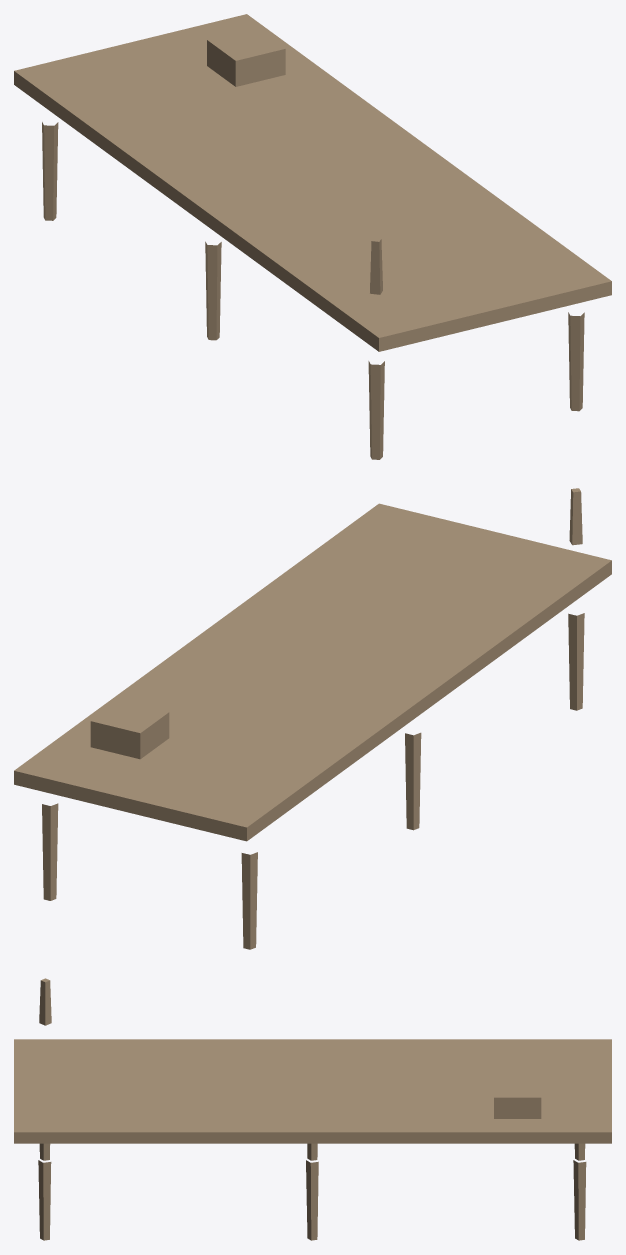
File: bridge_dock.glb
The picture shows the model from 3 angles, top to bottom: view 1: azimuth 30°, elevation 25°; view 2: azimuth 150°, elevation 25°; view 3: azimuth 270°, elevation 25°; orthographic projection. The views are drawn at different scales.
Parts seen in each view (by area): view 1: lod0; view 2: lod0; view 3: lod0.
Boxes of the visible parts, x1,y1,x2,y2 form: lod0: (14,14,611,459); lod0: (14,488,611,949); lod0: (14,978,611,1240).
Size of what is drawn, in the model's own units: 2.8 by 2.5 by 7.6.
